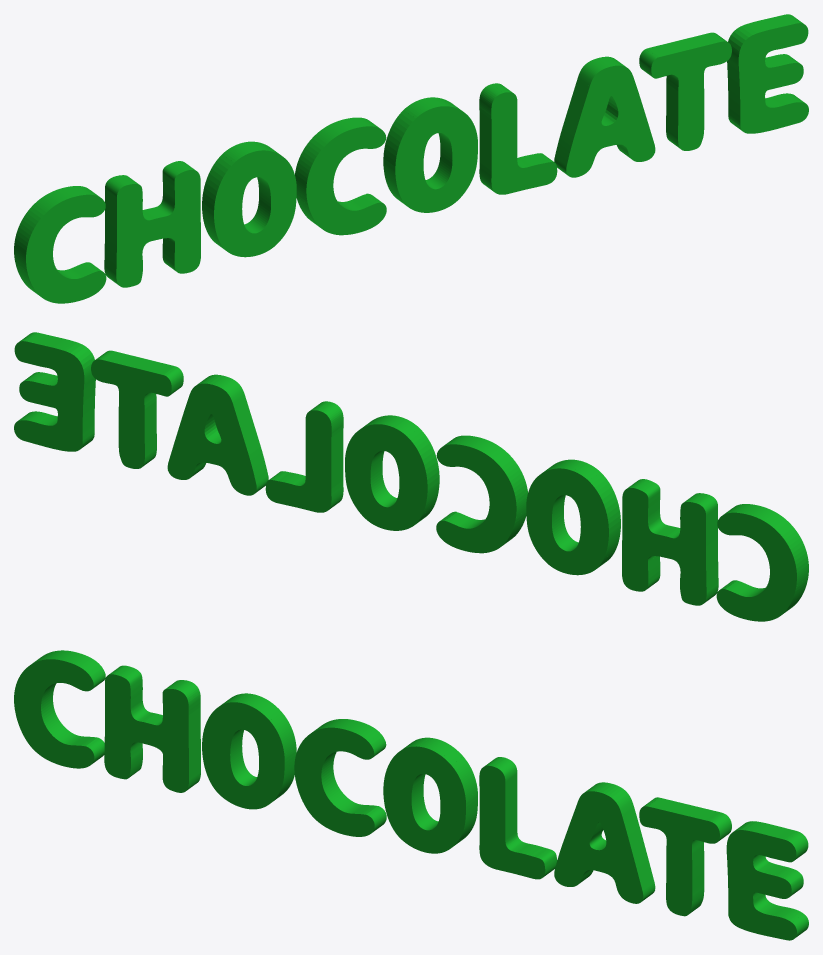
Rendered from CHOCOLATE.FBX.
3 renders of one model, top to bottom at view 1: azimuth 30°, elevation 25°; view 2: azimuth 150°, elevation 25°; view 3: azimuth 330°, elevation 25°, orthographic.
Parts seen in each view (by area): view 1: CHOCOLATE; view 2: CHOCOLATE; view 3: CHOCOLATE.
Part boxes in pixels (left/top/right/bottom): CHOCOLATE: left=14, top=14, right=808, bottom=303; CHOCOLATE: left=14, top=332, right=808, bottom=621; CHOCOLATE: left=14, top=650, right=808, bottom=940.
Size of the model in its own units: 113 by 14.72 by 3.
